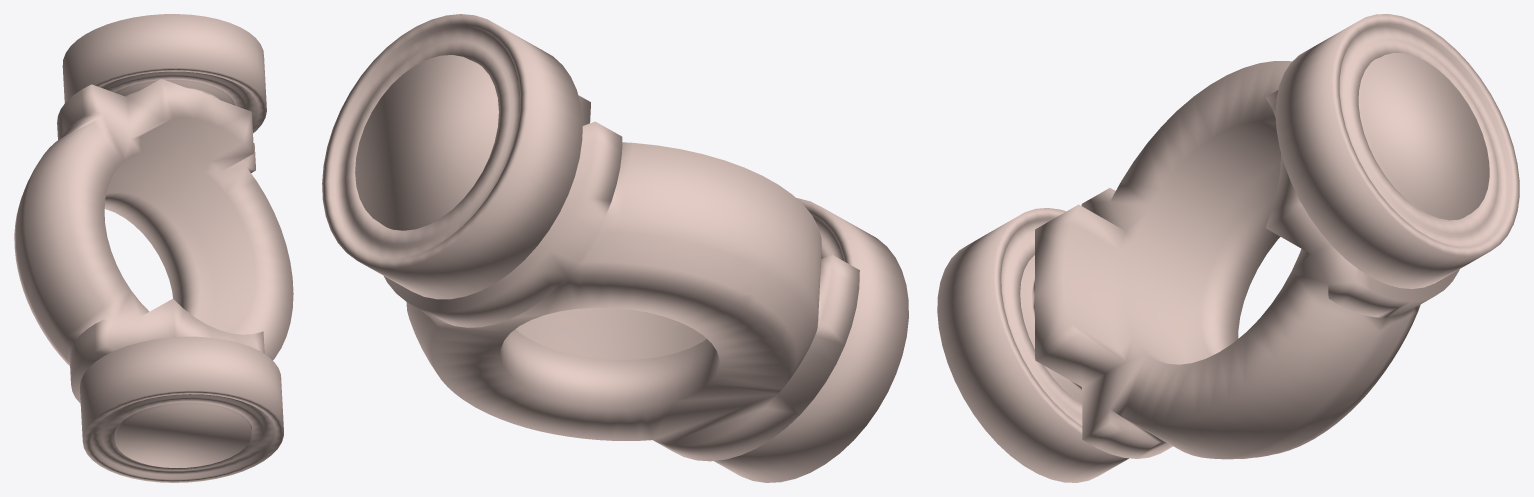
The model's file is thumb_cmc_b_1.obj.
3 views of the same model, side by side, from view 1: azimuth 30°, elevation 25°; view 2: azimuth 150°, elevation 25°; view 3: azimuth 270°, elevation 25° (orthographic). The views are drawn at different scales.
Size of the model in its own units: 16.77 by 20.75 by 21.91.
